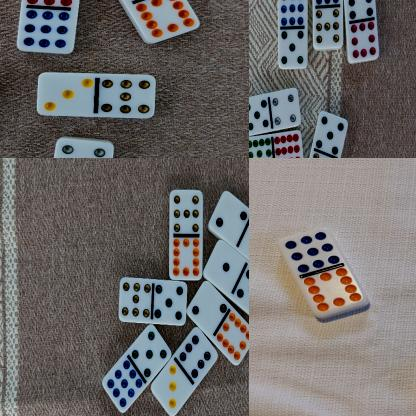pip-1: (204, 239, 243, 287)
pip-10: (304, 268, 365, 318), (135, 0, 200, 43), (216, 310, 249, 365), (170, 235, 203, 279)
pip-11: (249, 133, 273, 158)
pip-12: (274, 130, 304, 158)
pip-2: (210, 190, 247, 241), (187, 280, 228, 326)
pip-3: (37, 72, 96, 116), (152, 364, 189, 416)
pip-4: (271, 87, 302, 128), (54, 138, 114, 158)
pip-5: (132, 325, 171, 376), (316, 109, 349, 157), (153, 280, 187, 326), (277, 28, 309, 68), (249, 94, 271, 136), (237, 266, 249, 319)
pip-6: (180, 327, 218, 379), (343, 0, 376, 19)
pip-7: (98, 74, 157, 118), (118, 277, 154, 322), (169, 188, 203, 234), (313, 5, 344, 51)
pip-8: (348, 18, 379, 64)
pip-9: (280, 227, 342, 272), (16, 7, 76, 52), (102, 359, 144, 412), (277, 0, 308, 27)
